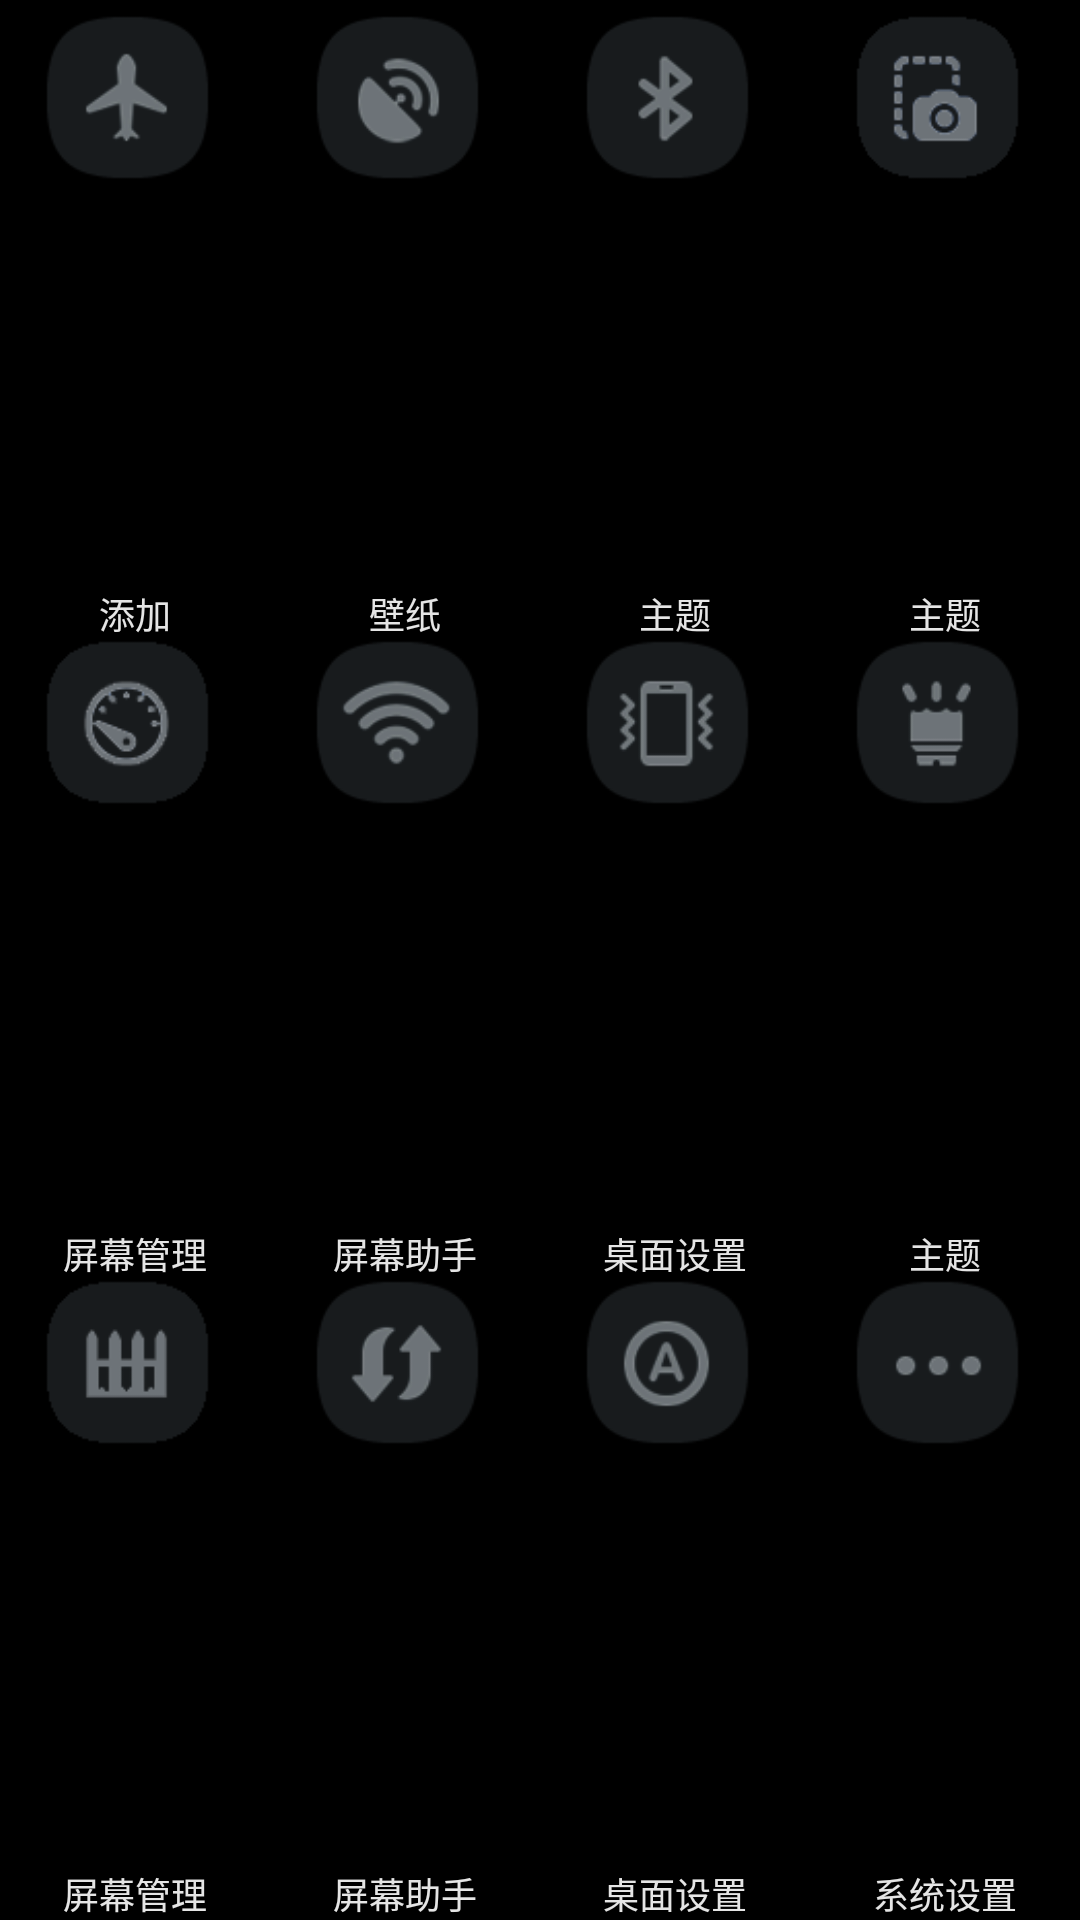

Named icons in this screenshot (1080×1920) and their centers, (x=x, y=y):
bar toggle data: (x=397, y=1362)
bar toggle flight mode: (x=127, y=97)
bar toggle gps: (x=397, y=97)
bar toggle power: (x=127, y=722)
bar toggle torch: (x=937, y=722)
bar toggle vibrate: (x=667, y=722)
bar toggle wifi: (x=397, y=722)
